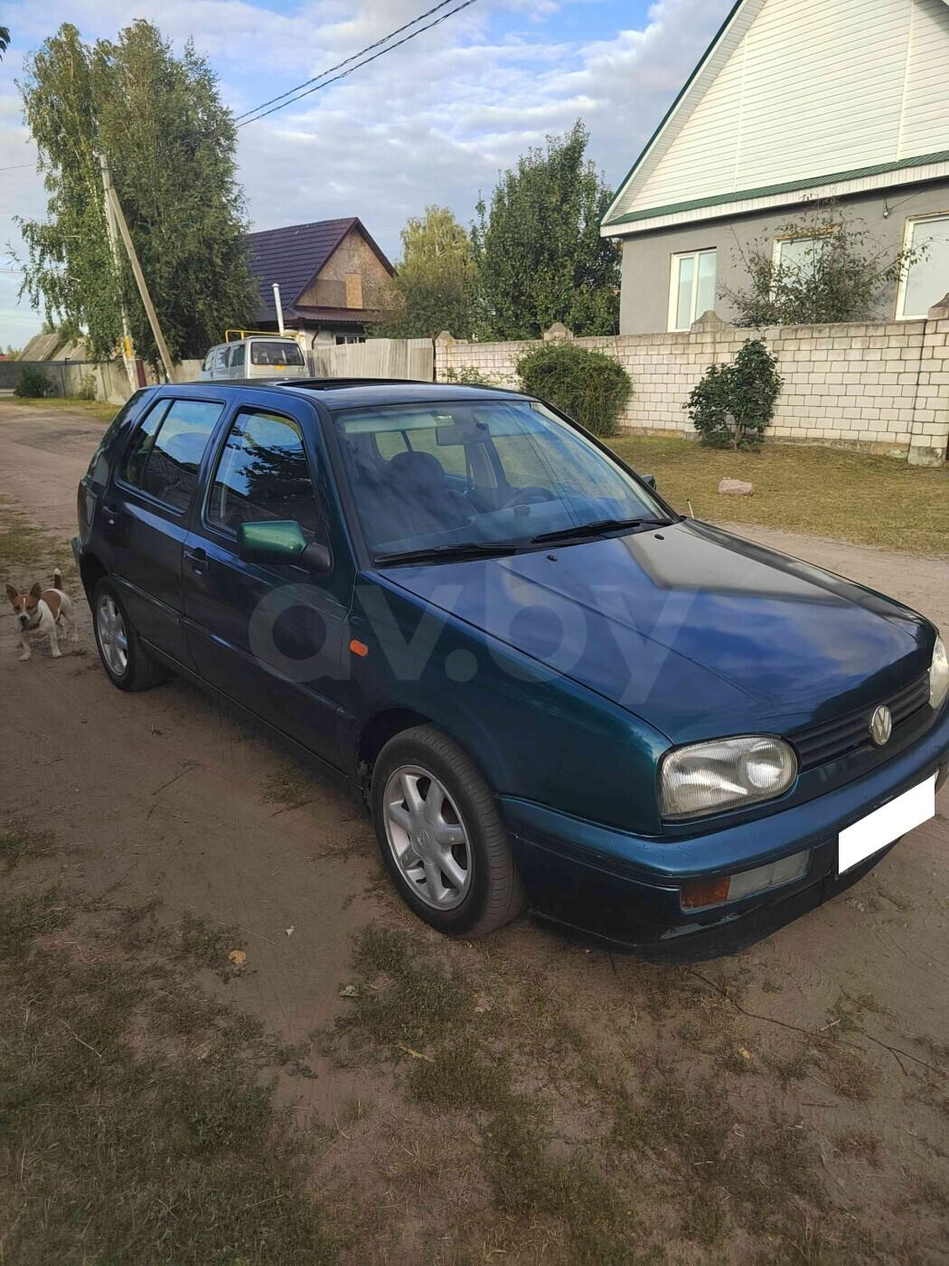Golf_1991-2000: (68, 362, 949, 958)
